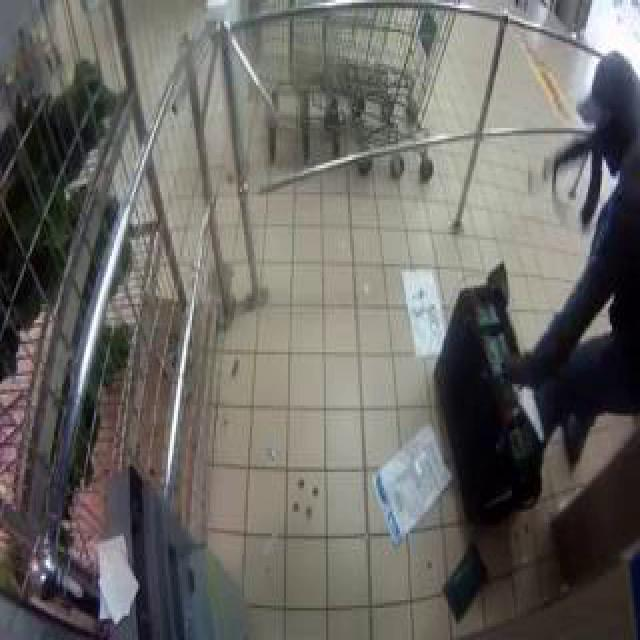shooting: (392, 3, 640, 513)
